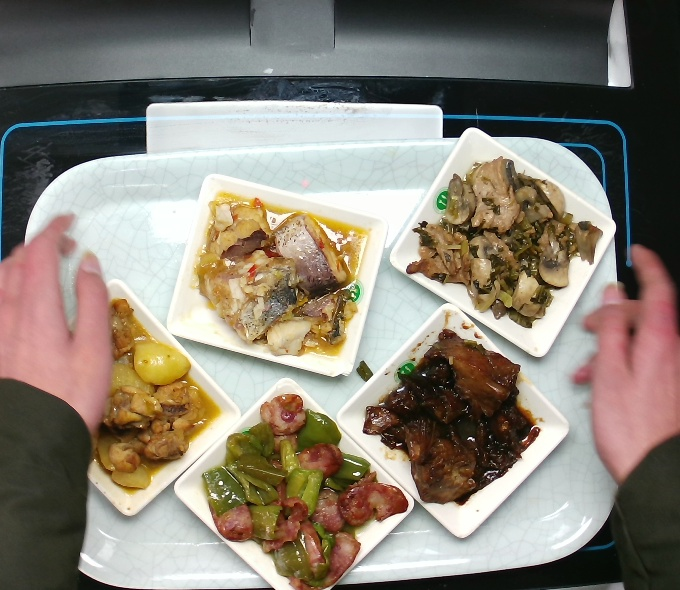wcq-JiangZhiYa: (361, 329, 541, 507)
wcq-MoGuRouPian: (405, 154, 605, 327)
wcq-QingJiaoXiangChang: (201, 391, 408, 590)
wcq-SuanCaiYu: (191, 192, 372, 358)
